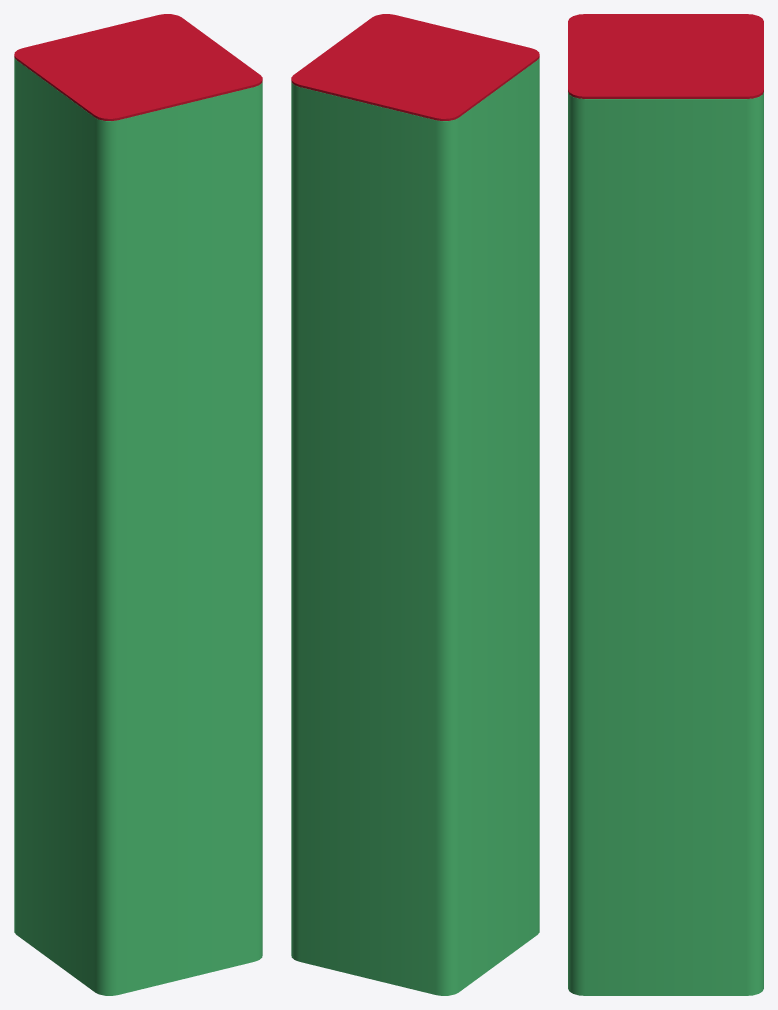
The model's file is Platform (2).fbx.
3 views of the same model, side by side, from view 1: azimuth 30°, elevation 25°; view 2: azimuth 150°, elevation 25°; view 3: azimuth 270°, elevation 25° (orthographic). The views are drawn at different scales.
Parts seen in each view (by area): view 1: BigCube, SmallCube_1; view 2: BigCube, SmallCube_1; view 3: BigCube, SmallCube_1.
Boxes of the visible parts, box(x1,y1,x2,y2) form: BigCube: box(14, 58, 262, 995); SmallCube_1: box(14, 14, 262, 120); BigCube: box(291, 58, 539, 995); SmallCube_1: box(291, 14, 539, 120); BigCube: box(568, 92, 763, 995); SmallCube_1: box(568, 14, 763, 98).
Bounding box in the file's own units: 200 × 1013 × 200.
